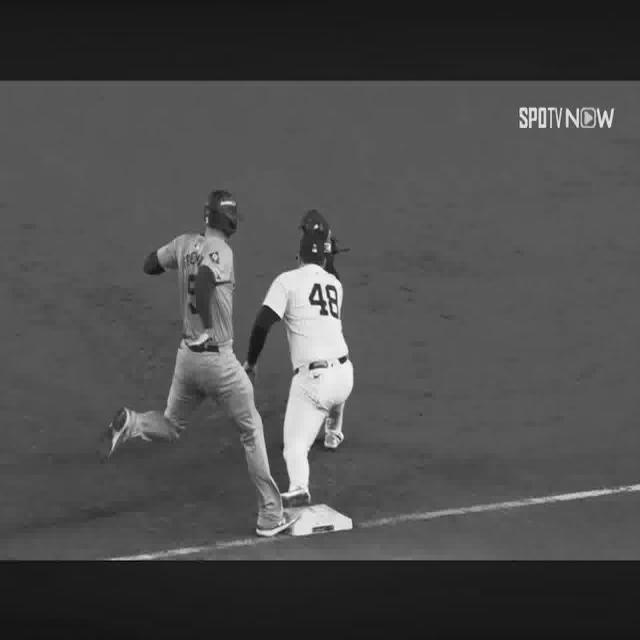base: (289, 503, 352, 537)
baseball_glove: (301, 210, 344, 257)
shoe: (104, 407, 129, 458), (256, 512, 299, 537), (281, 488, 308, 506), (323, 430, 346, 448)
